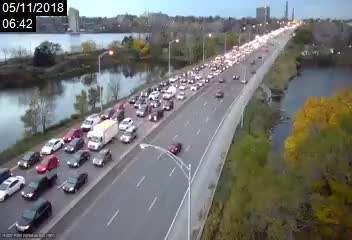congestion: (4, 123, 127, 232), (87, 85, 177, 136), (157, 61, 219, 97), (203, 46, 243, 69)
personal_car: (15, 198, 51, 234), (23, 173, 60, 199), (1, 170, 25, 202), (64, 170, 87, 195), (35, 154, 60, 172), (18, 150, 41, 169), (67, 150, 91, 168), (40, 138, 64, 155), (90, 150, 114, 166), (119, 126, 138, 143), (81, 112, 100, 129), (66, 136, 83, 151), (148, 106, 164, 121), (63, 127, 80, 141), (169, 139, 181, 155), (101, 106, 114, 119), (163, 87, 176, 99), (138, 103, 149, 116), (160, 99, 174, 109), (118, 118, 131, 128), (111, 110, 122, 121), (215, 89, 226, 100), (114, 103, 126, 113), (149, 96, 159, 107), (230, 72, 240, 82), (170, 74, 180, 83), (142, 88, 152, 97), (149, 91, 159, 100), (134, 97, 143, 107), (176, 91, 187, 99), (151, 83, 162, 91), (129, 93, 138, 102), (191, 83, 199, 92), (179, 82, 188, 90), (187, 76, 195, 84), (160, 78, 168, 86), (191, 64, 199, 71), (172, 79, 179, 87), (159, 85, 167, 92), (218, 77, 225, 84), (181, 75, 187, 82), (194, 74, 202, 79), (241, 79, 247, 85)
truck: (87, 119, 119, 152)
